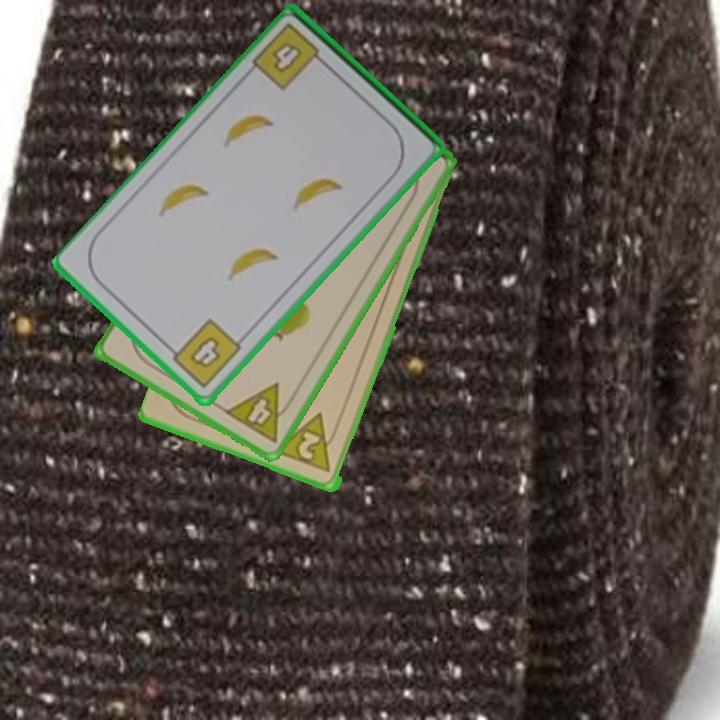2p: (273, 409, 342, 477)
4b: (163, 315, 245, 392), (249, 19, 331, 93)
4p: (221, 379, 300, 446)
